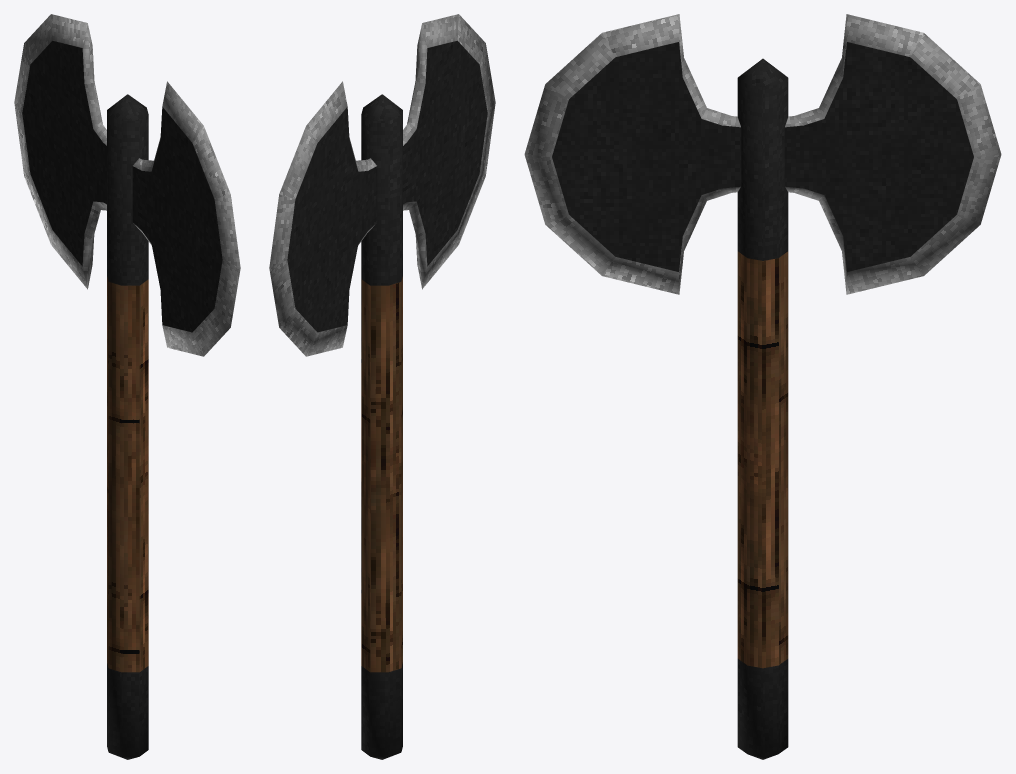
Rendered from hand_axe.glb.
3 renders of one model, left to right at view 1: azimuth 30°, elevation 25°; view 2: azimuth 150°, elevation 25°; view 3: azimuth 270°, elevation 25°, orthographic. The views are drawn at different scales.
Visible parts, largest first — view 1: Cylinder; view 2: Cylinder; view 3: Cylinder.
Part boxes in pixels (left/top/right/bottom): Cylinder: left=14, top=14, right=240, bottom=759; Cylinder: left=269, top=14, right=495, bottom=759; Cylinder: left=524, top=14, right=1001, bottom=759.
Size of the model in its own units: 0.0356 by 0.6302 by 0.3653.
3 materials, 3 textured.
